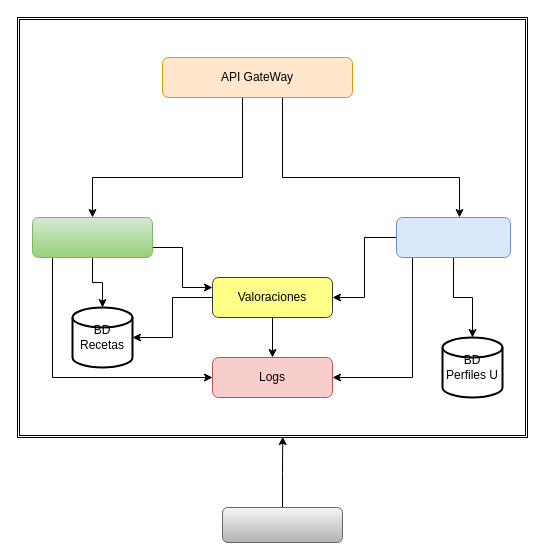
The diagram is 545 pixels wide and 560 high, and some of its shapes have lost their labels. Here are the shapes that lost their labels. From the top down, the centre of each, then its label:
the point at 92,237: Recetas
the point at 453,237: Usuarios
the point at 282,524: Configuración
